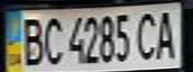2: (81, 11, 100, 65)
4: (63, 12, 87, 65)
5: (112, 10, 136, 62)
8: (97, 11, 118, 64)
A: (151, 7, 184, 61)
B: (15, 14, 45, 68)
C: (133, 8, 163, 61), (39, 14, 66, 68)
